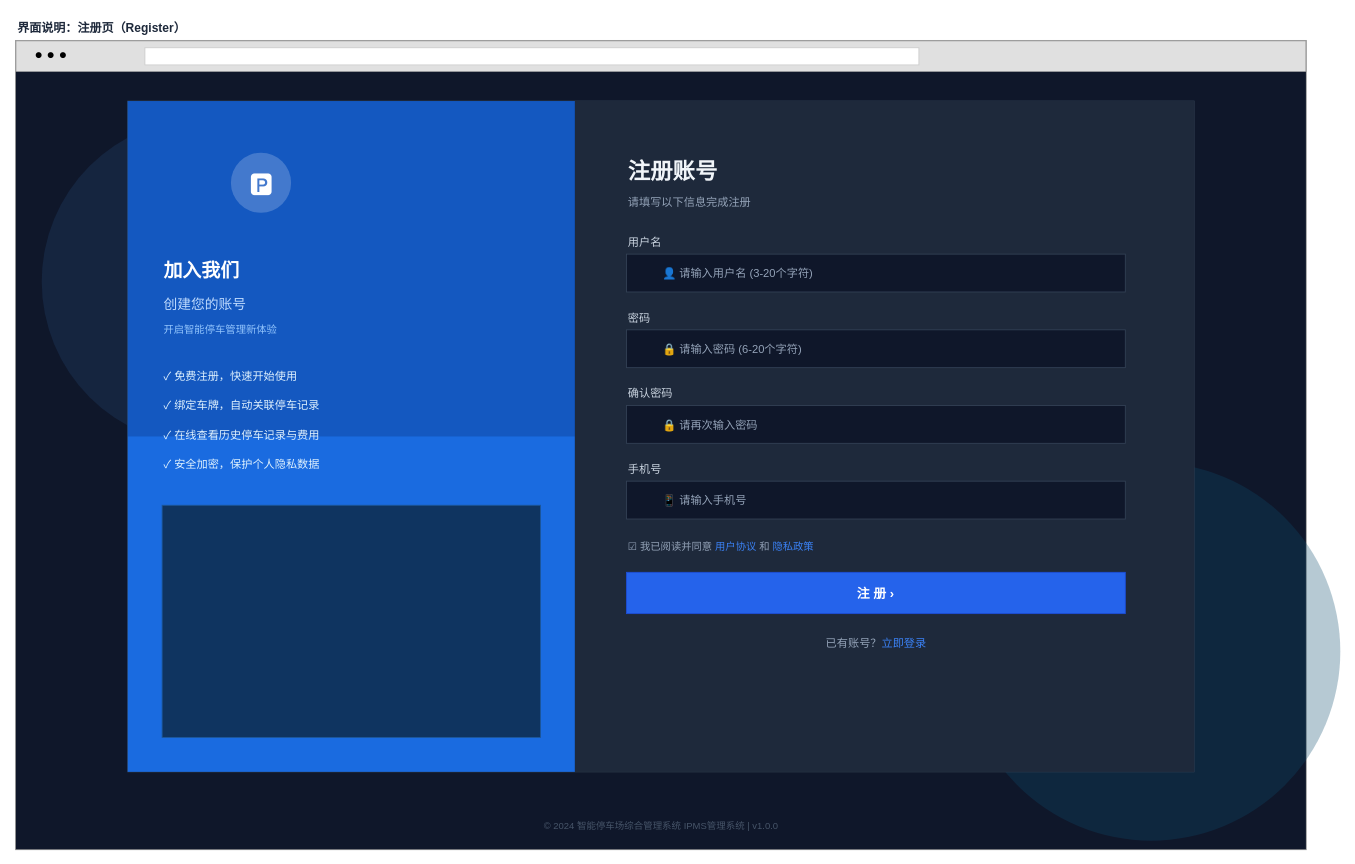
Some shapes in this 1355 by 864 pixel diagram are drawn without their labels. The shapes that lost their labels are listed below. From the top down, each one's centre as x and y in pixels, then its label:
At point (531, 56): "🔒 localhost:5173/register".
At point (350, 268): "智能停车场综合管理系统".
At point (351, 620): "[ 停车场实景图 ]".
